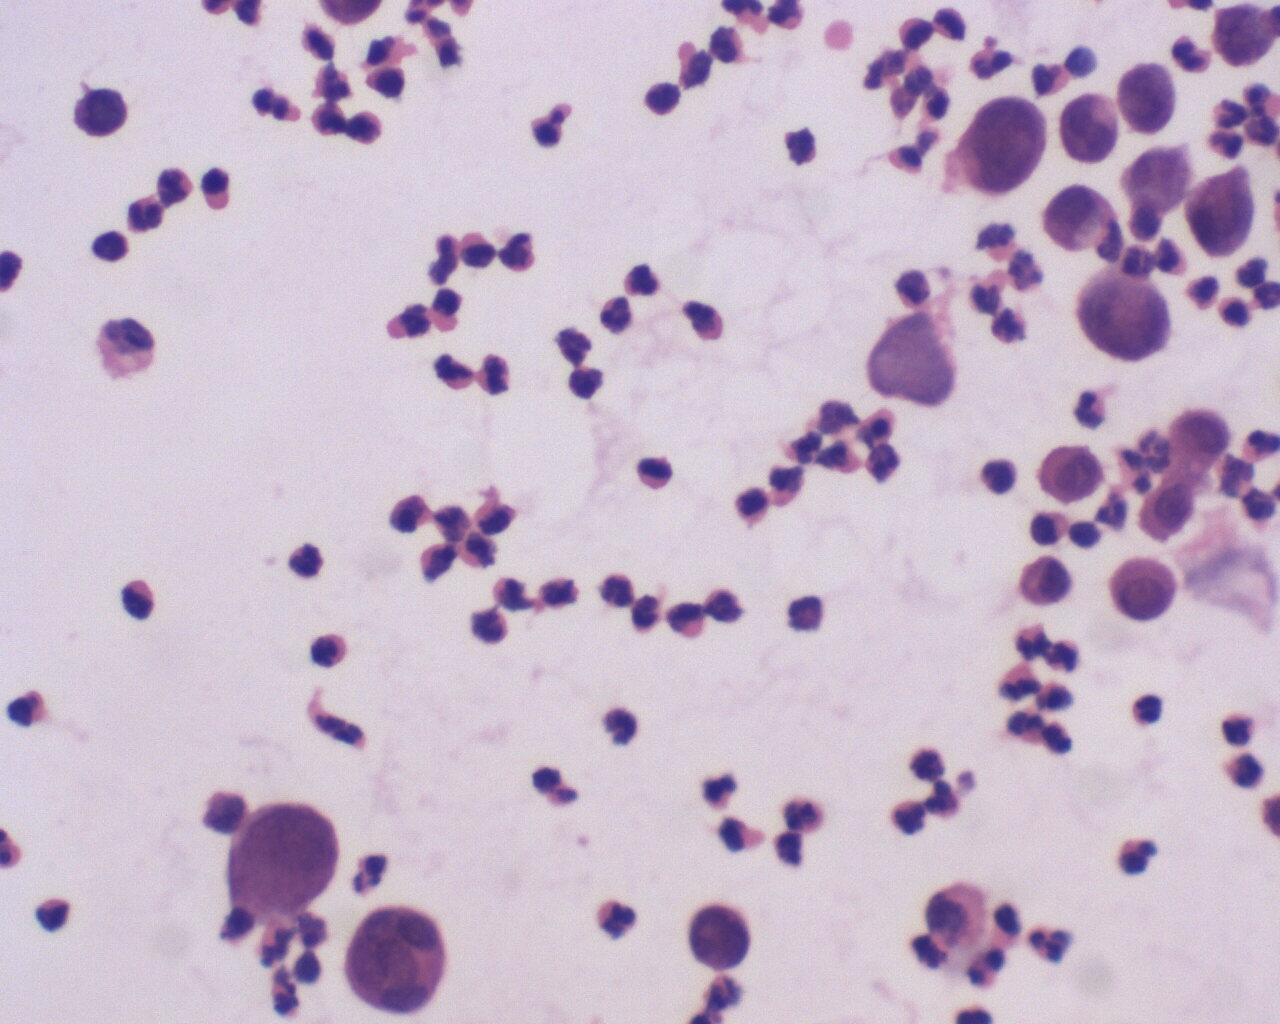ab: (216, 794, 350, 916), (340, 900, 451, 1019), (1069, 267, 1185, 367), (964, 86, 1048, 199), (1186, 157, 1261, 260), (1040, 184, 1119, 263), (1057, 87, 1125, 174), (680, 898, 760, 972), (1030, 439, 1116, 507), (1113, 49, 1179, 135), (1207, 1, 1280, 75), (1107, 552, 1179, 625), (64, 83, 138, 146), (1166, 401, 1231, 465), (1141, 472, 1198, 543)
lymph: (643, 79, 691, 126), (982, 450, 1016, 495)
neutro: (633, 449, 688, 503), (1022, 917, 1078, 967), (116, 571, 163, 627), (591, 898, 641, 942), (126, 195, 171, 242), (308, 624, 352, 671), (591, 290, 639, 333), (887, 796, 930, 840), (1066, 386, 1108, 430)
